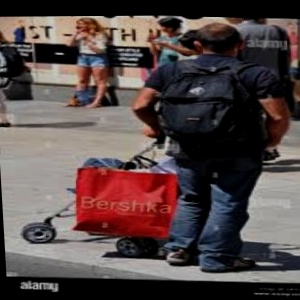bershka: (132, 103, 213, 280)
